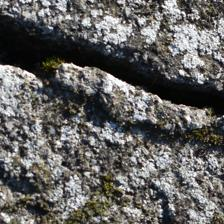Crack: (8, 11, 221, 129)
